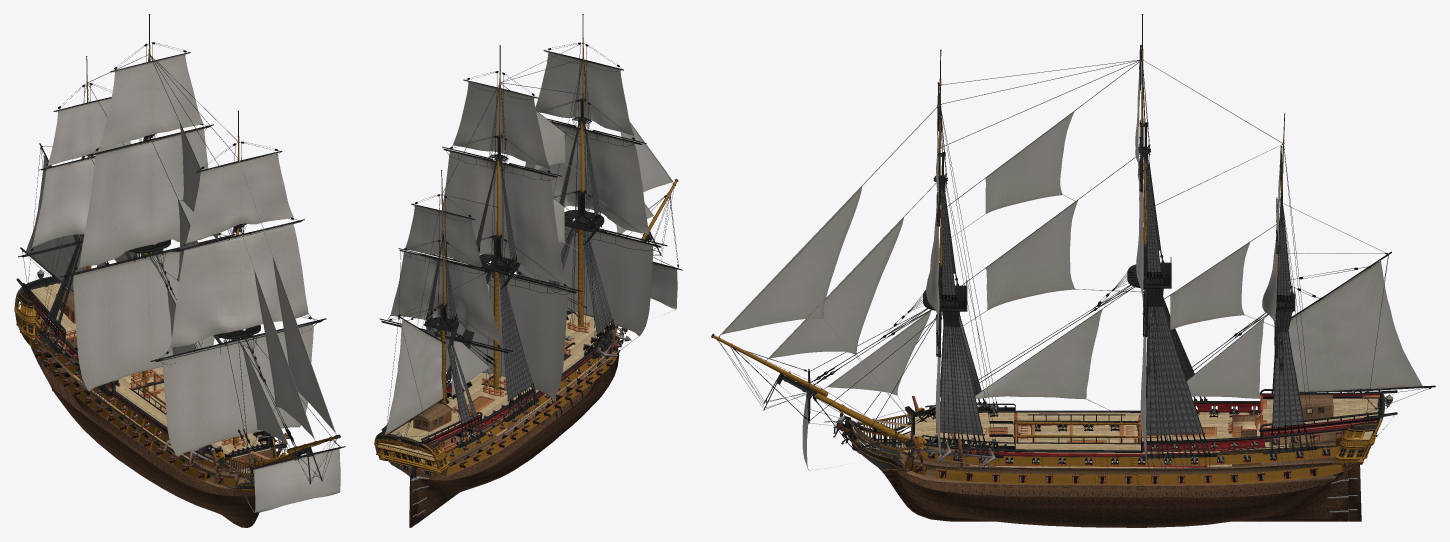
The model's file is ship_bucentaure.glb.
The picture shows the model from 3 angles, left to right: view 1: azimuth 30°, elevation 25°; view 2: azimuth 150°, elevation 25°; view 3: azimuth 270°, elevation 25°; orthographic projection. The views are drawn at different scales.
Visible parts, largest first — view 1: Object_50, Object_64, Object_96, Object_8, Object_74, Object_12, Object_42, Object_106, Object_34, Object_26, Object_80, Object_44 (+11 smaller); view 2: Object_50, Object_64, Object_42, Object_12, Object_96, Object_20, Object_74, Object_40, Object_130, Object_34, Object_116, Object_106 (+12 smaller); view 3: Object_44, Object_74, Object_8, Object_20, Object_40, Object_42, Object_34, Object_26, Object_12, Object_106, Object_80, Object_130 (+10 smaller).
Part boxes in pixels (box(x1,y1,x2,y2)): Object_50: box(28, 98, 313, 456); Object_64: box(96, 54, 340, 512); Object_96: box(163, 223, 314, 356); Object_8: box(237, 159, 336, 448); Object_74: box(41, 362, 259, 527); Object_12: box(17, 14, 345, 485); Object_42: box(22, 42, 340, 488); Object_106: box(17, 293, 273, 486); Object_34: box(20, 282, 270, 473); Object_26: box(16, 278, 286, 491); Object_80: box(37, 289, 272, 489); Object_44: box(97, 123, 224, 375); Object_50: box(385, 152, 653, 433); Object_64: box(449, 52, 677, 314); Object_42: box(382, 42, 678, 461); Object_12: box(377, 14, 682, 446); Object_96: box(525, 123, 654, 243); Object_20: box(426, 134, 612, 423); Object_74: box(399, 359, 617, 527); Object_40: box(385, 319, 442, 434); Object_130: box(425, 132, 612, 423); Object_34: box(378, 312, 610, 466); Object_116: box(384, 38, 677, 458); Object_106: box(378, 336, 618, 474); Object_44: box(950, 112, 1274, 421); Object_74: box(881, 464, 1361, 527); Object_8: box(718, 104, 939, 422); Object_20: box(940, 165, 1304, 435); Object_40: box(1288, 260, 1422, 392); Object_42: box(718, 46, 1429, 476); Object_34: box(872, 398, 1378, 467); Object_26: box(848, 389, 1397, 489); Object_12: box(711, 14, 1435, 459); Object_106: box(905, 421, 1376, 484); Object_80: box(896, 394, 1344, 485); Object_130: box(940, 165, 1304, 435).
Bounding box in the file's own units: 26.98 × 65.53 × 84.91.
Materials: 29 (29 with a texture image).
